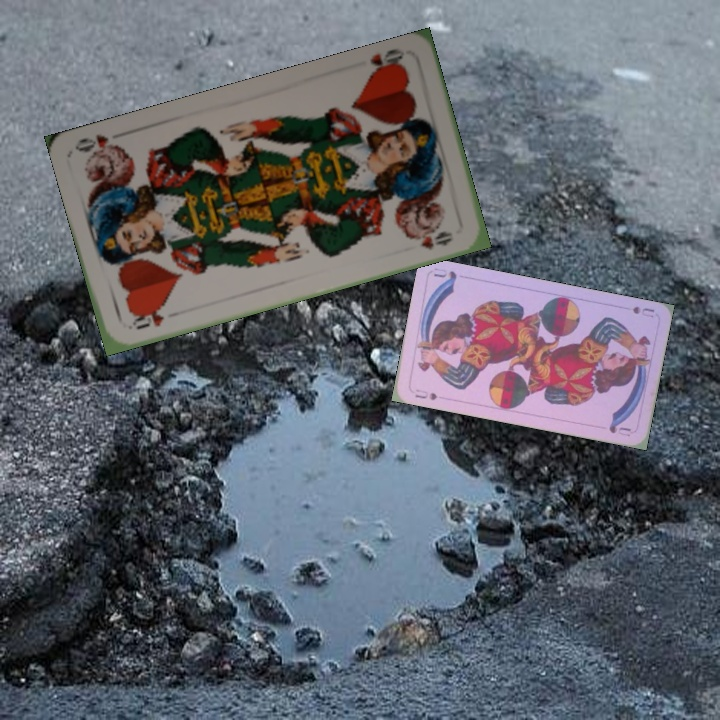HO: (365, 44, 408, 80), (128, 304, 167, 332)
SU: (628, 302, 657, 320), (411, 385, 440, 403)
